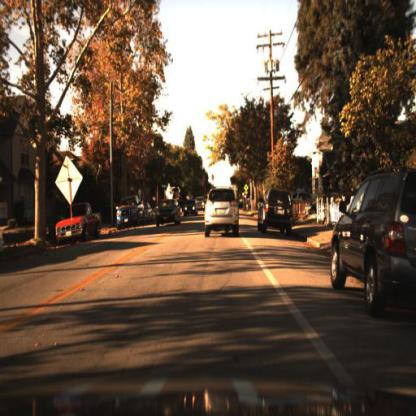car: (331, 165, 416, 320), (204, 183, 242, 240), (54, 204, 103, 240), (258, 188, 292, 239), (116, 196, 144, 229), (155, 199, 183, 227), (183, 199, 198, 218)
